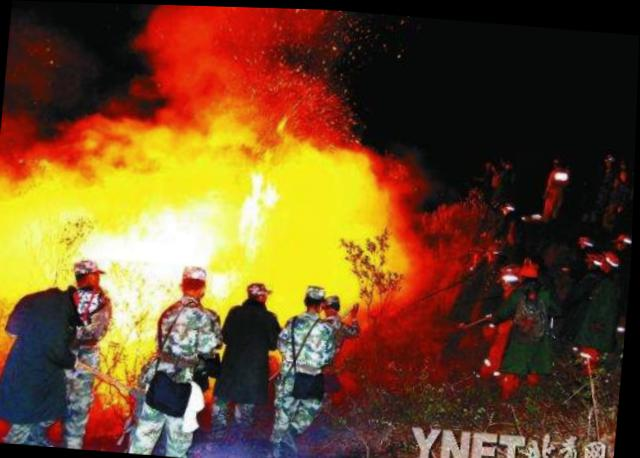fire: (0, 91, 423, 390)
